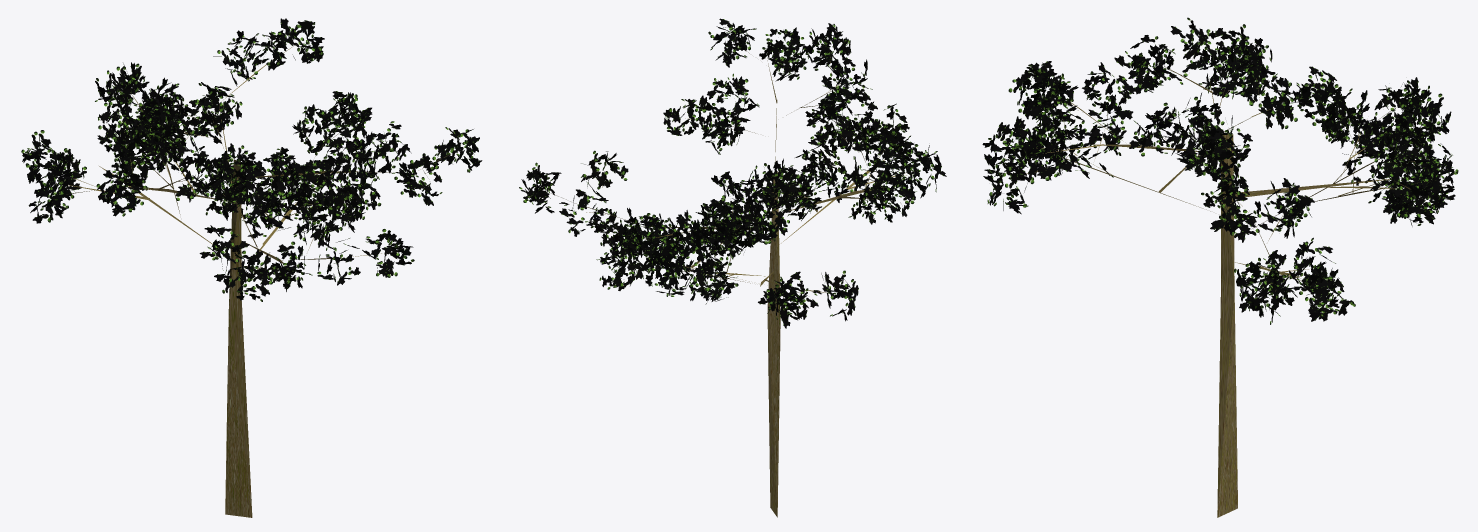
Rendered from pine_open_v02_LOD2.fbx.
3 views of the same model, side by side, from view 1: azimuth 30°, elevation 25°; view 2: azimuth 150°, elevation 25°; view 3: azimuth 270°, elevation 25° (orthographic). The views are drawn at different scales.
Parts seen in each view (by area): view 1: pine_open_v02_LOD2; view 2: pine_open_v02_LOD2; view 3: pine_open_v02_LOD2.
Boxes of the visible parts, x1,y1,x2,y2 form: pine_open_v02_LOD2: (21,18,482,517); pine_open_v02_LOD2: (519,18,946,517); pine_open_v02_LOD2: (982,17,1458,517).
Size of the model in its own units: 1616 by 1963 by 2090.
Materials: 2 (2 with a texture image).
